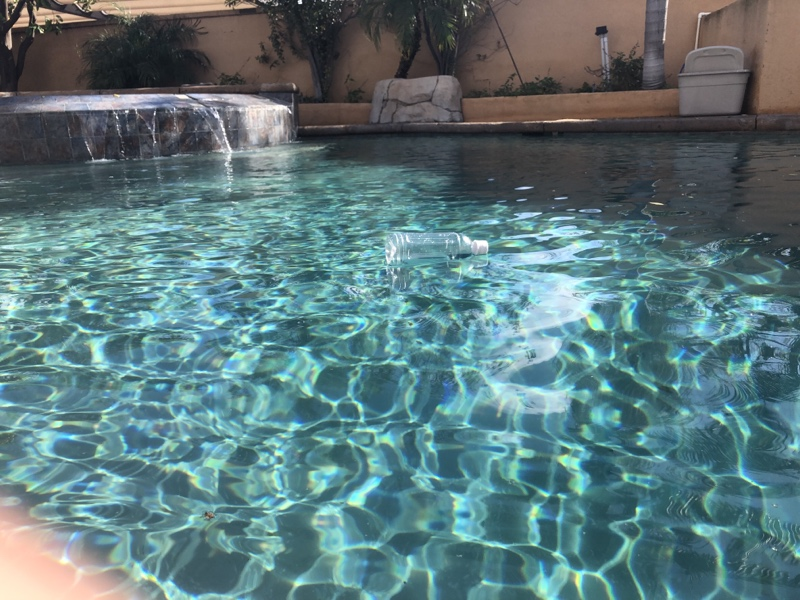Plastic Bottle: (375, 224, 492, 271)
